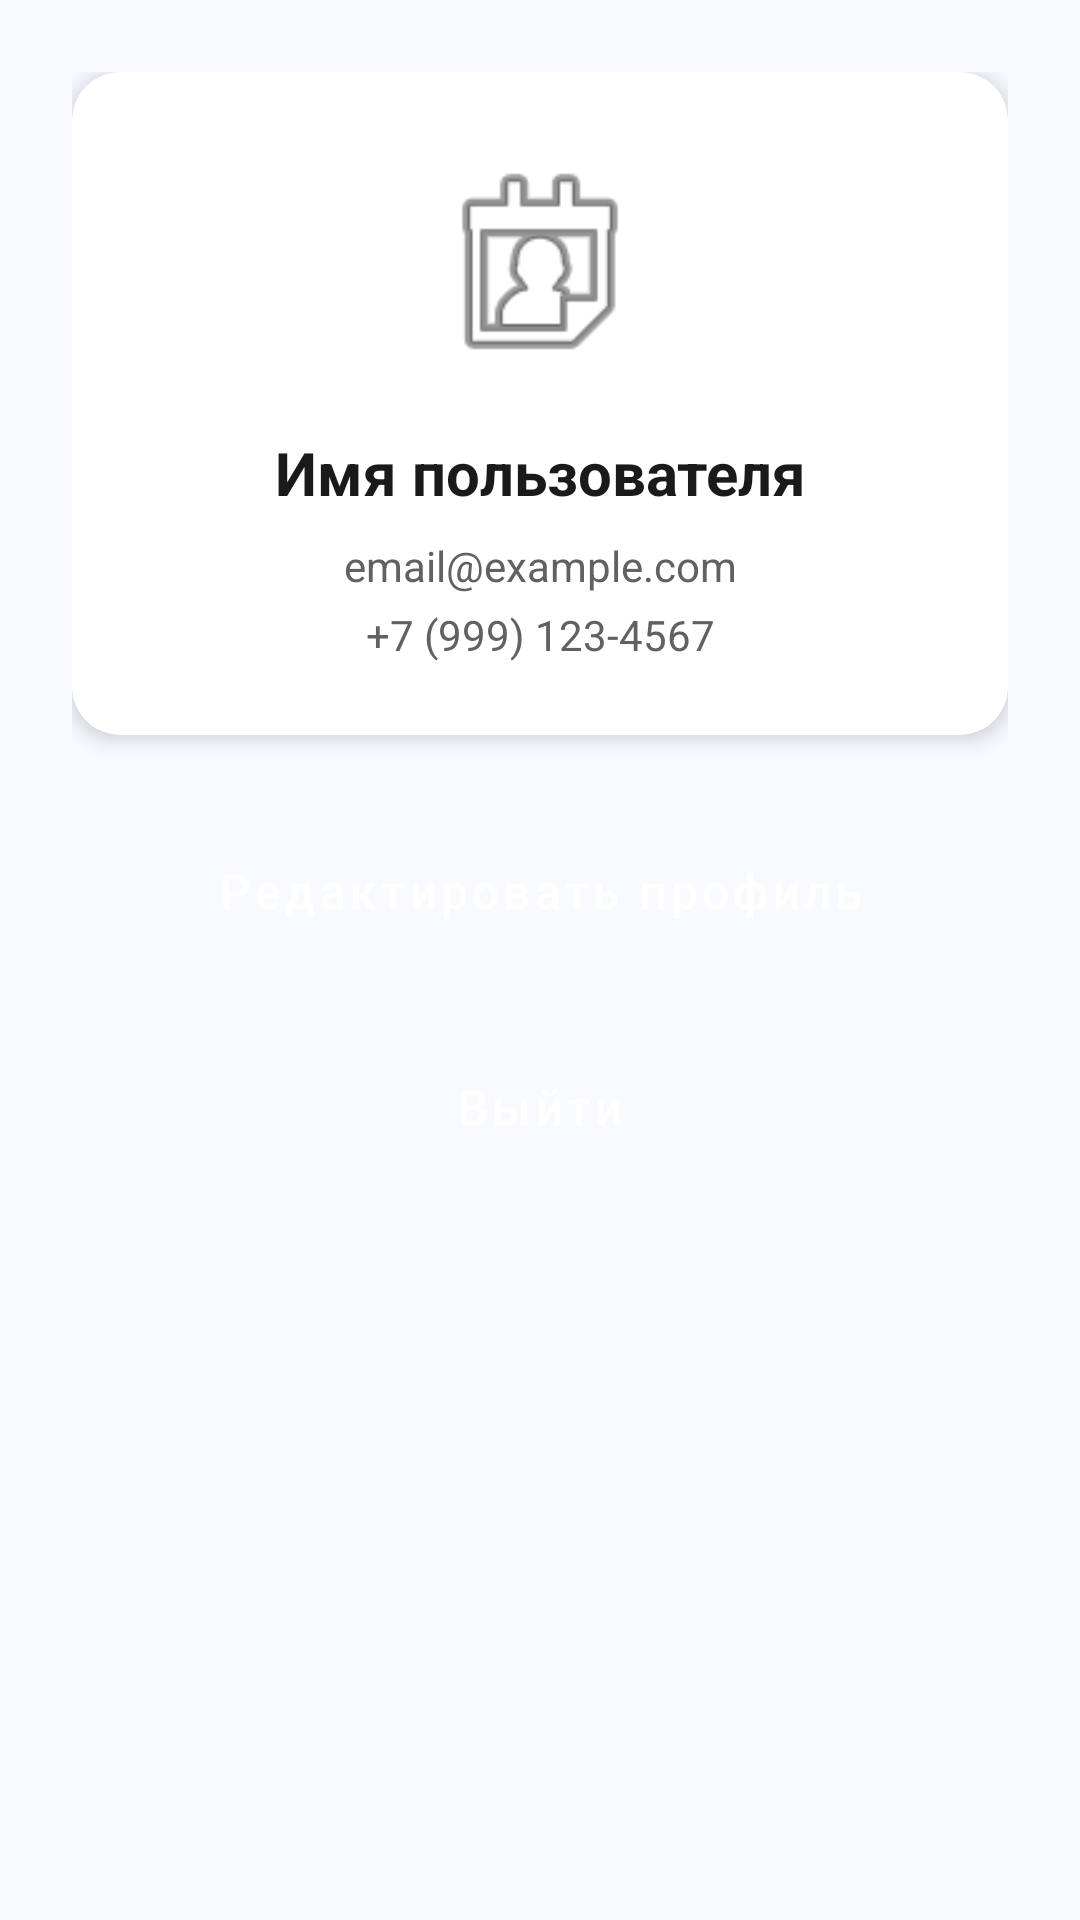

Locate icon controls on the screen. Image size 1080w x 1920h, boxes as (x1, y1, x2, y2).
calendar: (462, 173, 618, 350)
